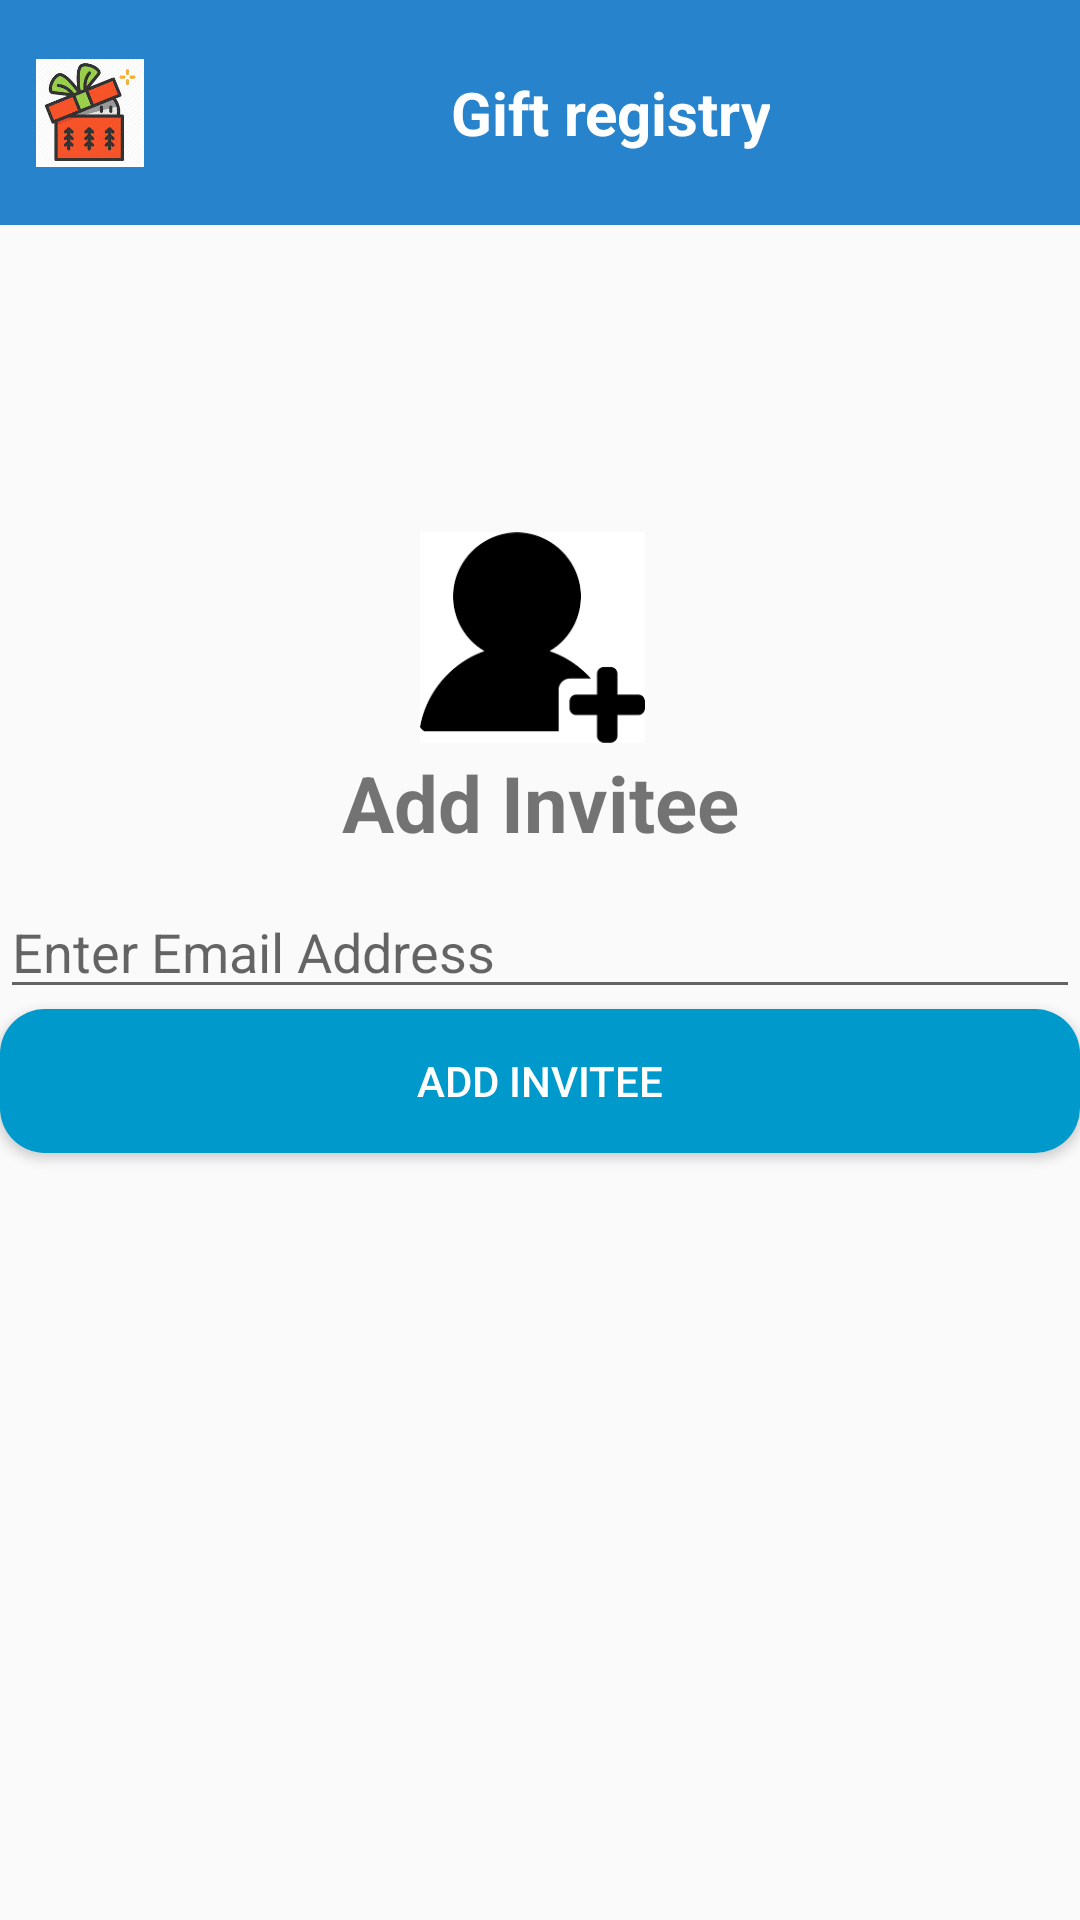

Icon click points for this 1080 x 1920 phone screenshot, format point (x, y):
gift: point (90, 113)
